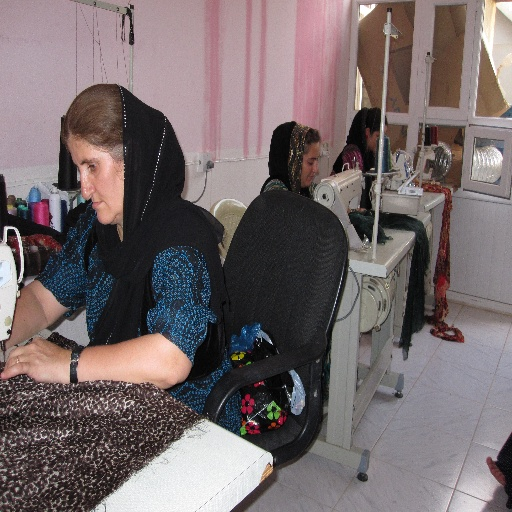hand: (5, 328, 66, 389), (346, 206, 366, 214)
